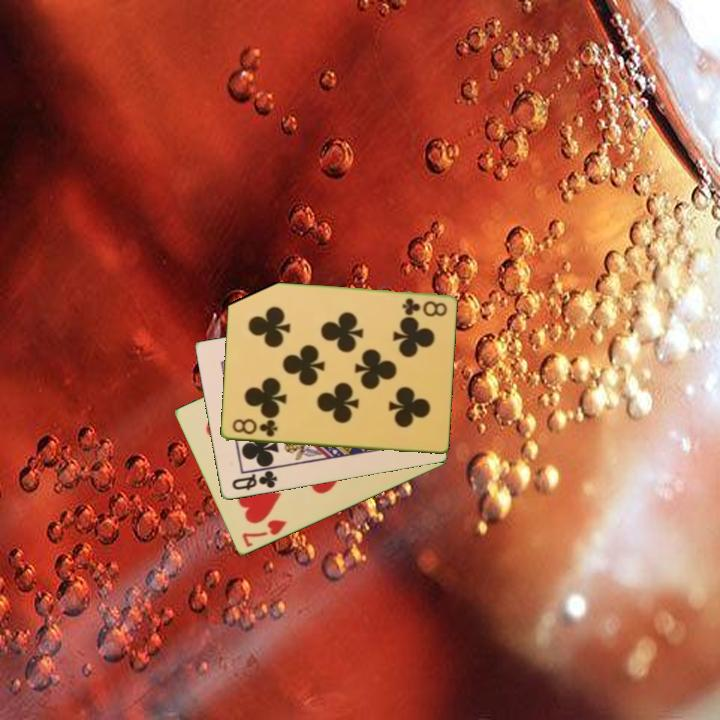7h: (238, 516, 290, 550)
8c: (228, 415, 280, 440), (398, 295, 449, 318)
Qc: (228, 467, 280, 494)
